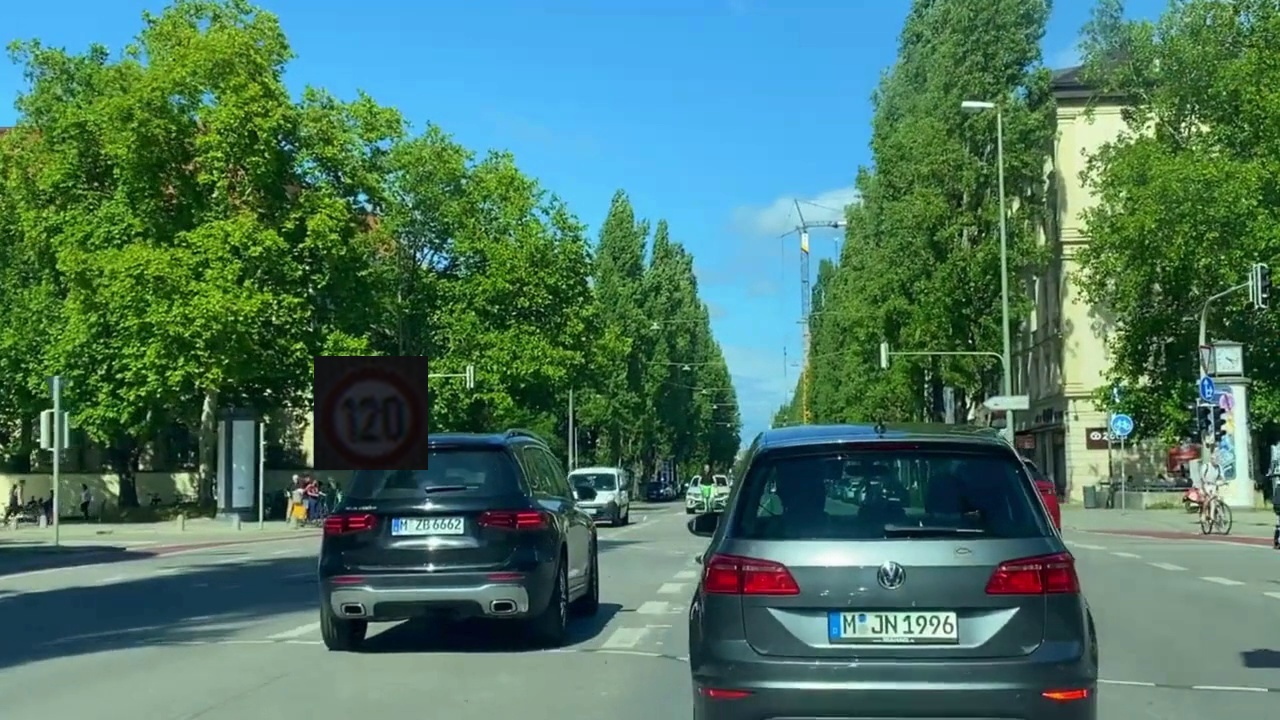Speed 120: (314, 356, 428, 470)
